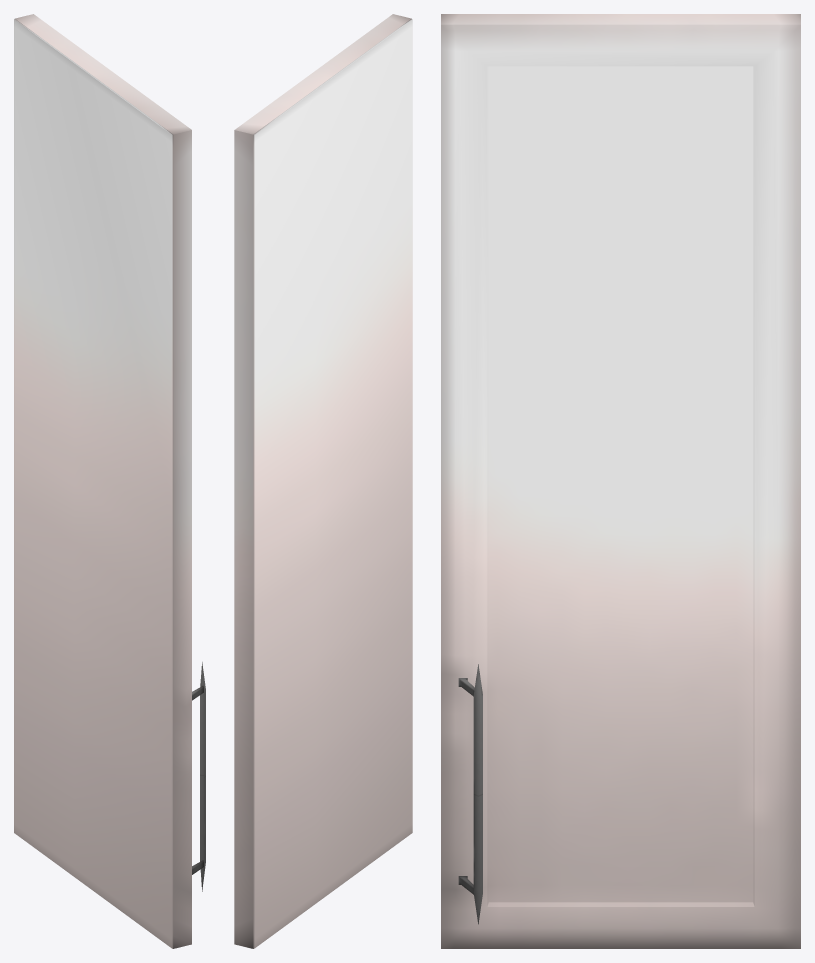
The model's file is kitchencupboard_doorWhole_R.glb.
3 renders of one model, left to right at view 1: azimuth 30°, elevation 25°; view 2: azimuth 150°, elevation 25°; view 3: azimuth 270°, elevation 25°, orthographic. The views are drawn at different scales.
Visible parts, largest first — view 1: RC_Furn_CabinetTopShelfDoor6; view 2: RC_Furn_CabinetTopShelfDoor6; view 3: RC_Furn_CabinetTopShelfDoor6.
Part boxes in pixels (x1=…): RC_Furn_CabinetTopShelfDoor6: x1=14, y1=14, x2=205, y2=948; RC_Furn_CabinetTopShelfDoor6: x1=234, y1=14, x2=412, y2=948; RC_Furn_CabinetTopShelfDoor6: x1=441, y1=14, x2=800, y2=948.
Bounding box in the file's own units: 0.1538 × 2.38 × 0.8405.
Materials: 1 (1 with a texture image).
